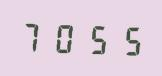five: (80, 20, 110, 57), (111, 21, 141, 58)
seven: (18, 17, 48, 54)
zero: (49, 18, 79, 55)
